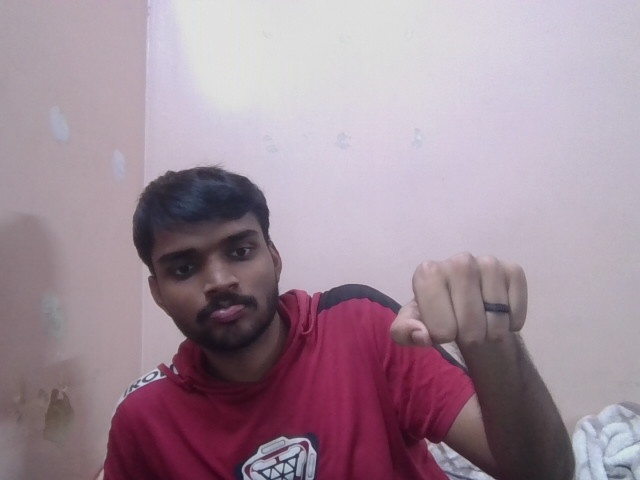Yes: (387, 239, 546, 350)
